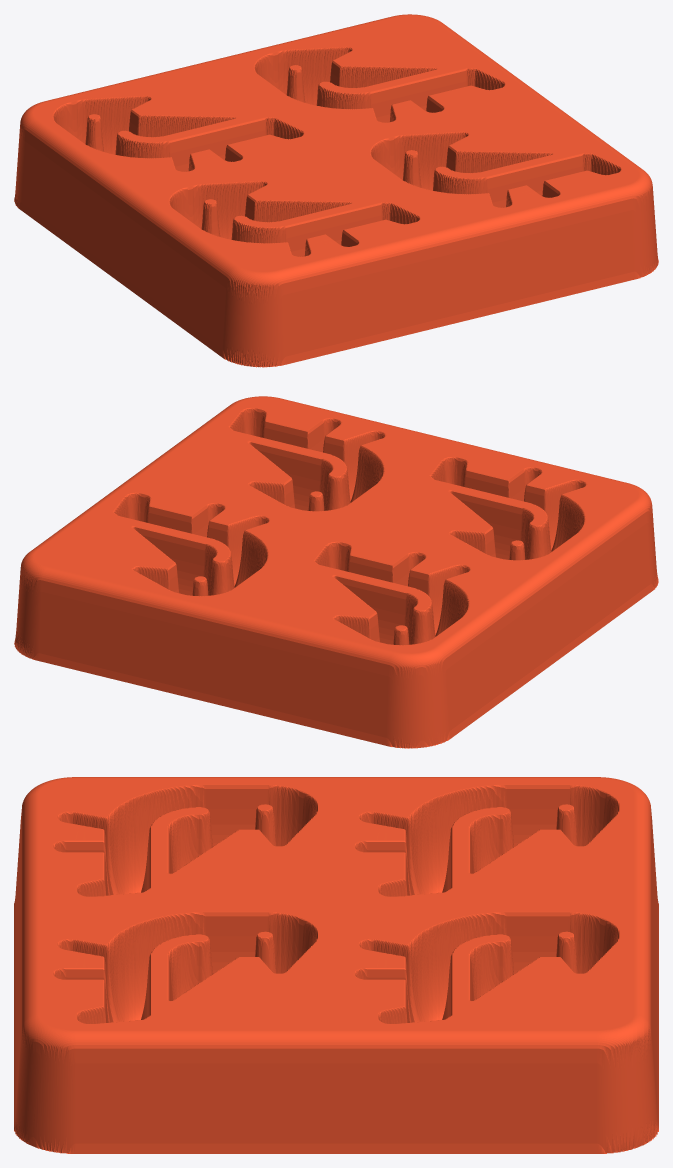
File: mold.glb
3 renders of one model, top to bottom at view 1: azimuth 30°, elevation 25°; view 2: azimuth 150°, elevation 25°; view 3: azimuth 270°, elevation 25°, orthographic. The views are drawn at different scales.
Visible parts, largest first — view 1: geometry_0; view 2: geometry_0; view 3: geometry_0.
Boxes of the visible parts, bbox=[...] form: geometry_0: bbox=[14, 14, 658, 367]; geometry_0: bbox=[14, 396, 658, 748]; geometry_0: bbox=[14, 777, 658, 1153].
Size of the model in its own units: 0.0942 by 0.0182 by 0.0942.
